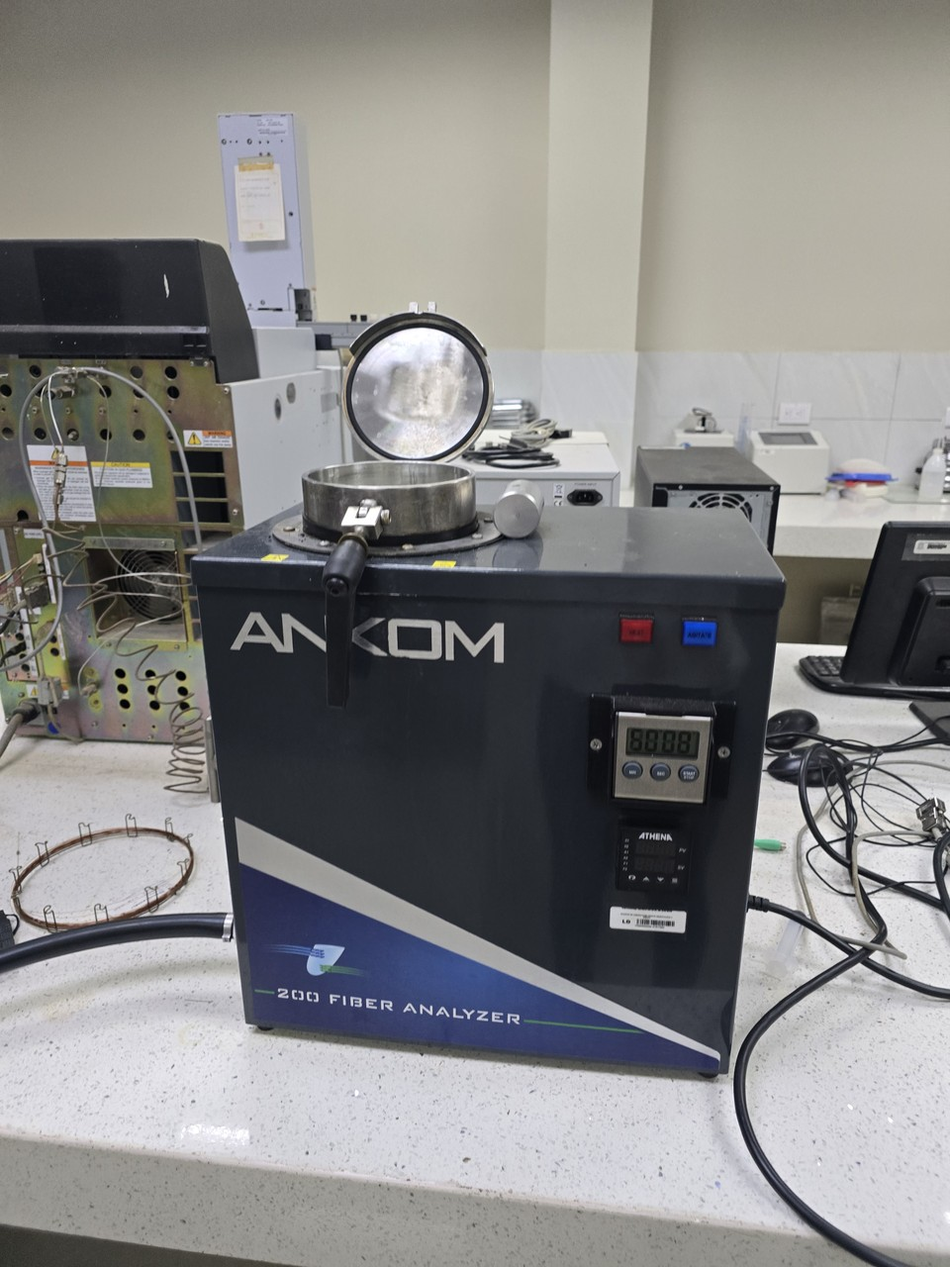ankom_200_fiber_analyzer: (206, 303, 808, 1155)
